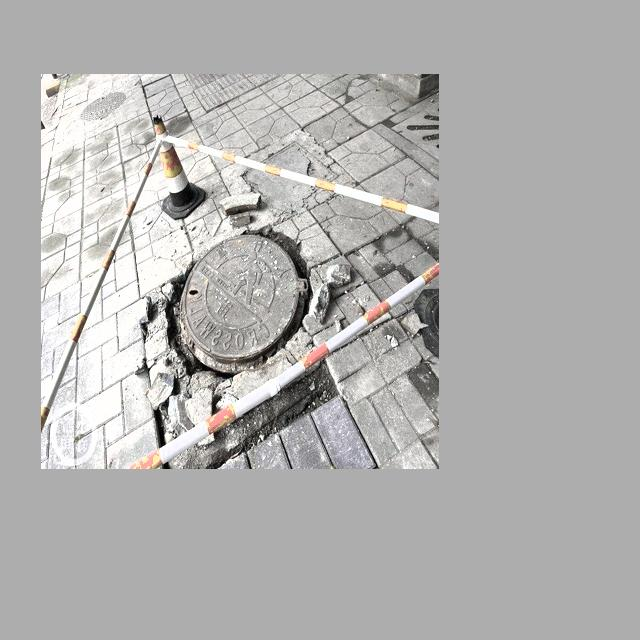circle: (147, 210, 341, 455)
